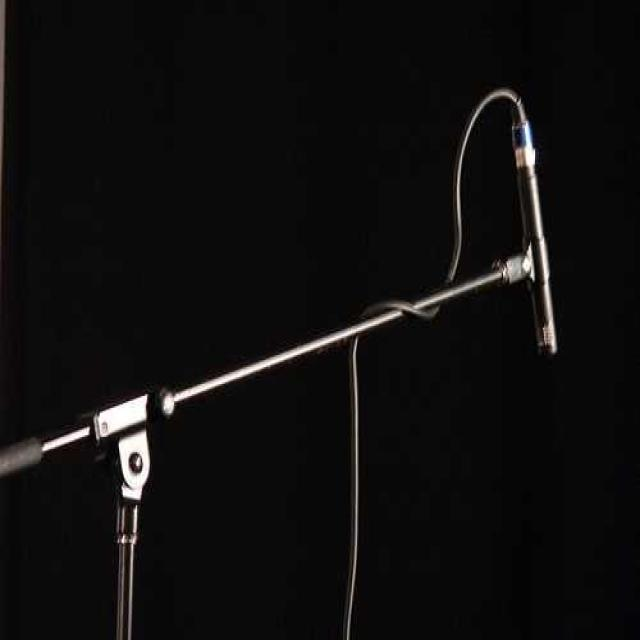microphone: (512, 128, 556, 362)
